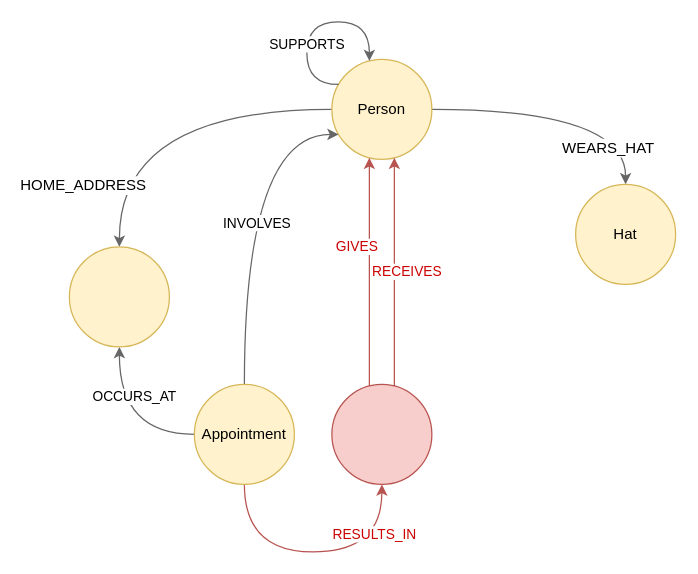
The diagram is 698 pixels wide and 574 high, and some of its shapes have lost their labels. Here are the shapes that lost their labels. From the top down, the centre of each, then its label:
the point at 118,296: Location
the point at 381,433: Value Exchange
